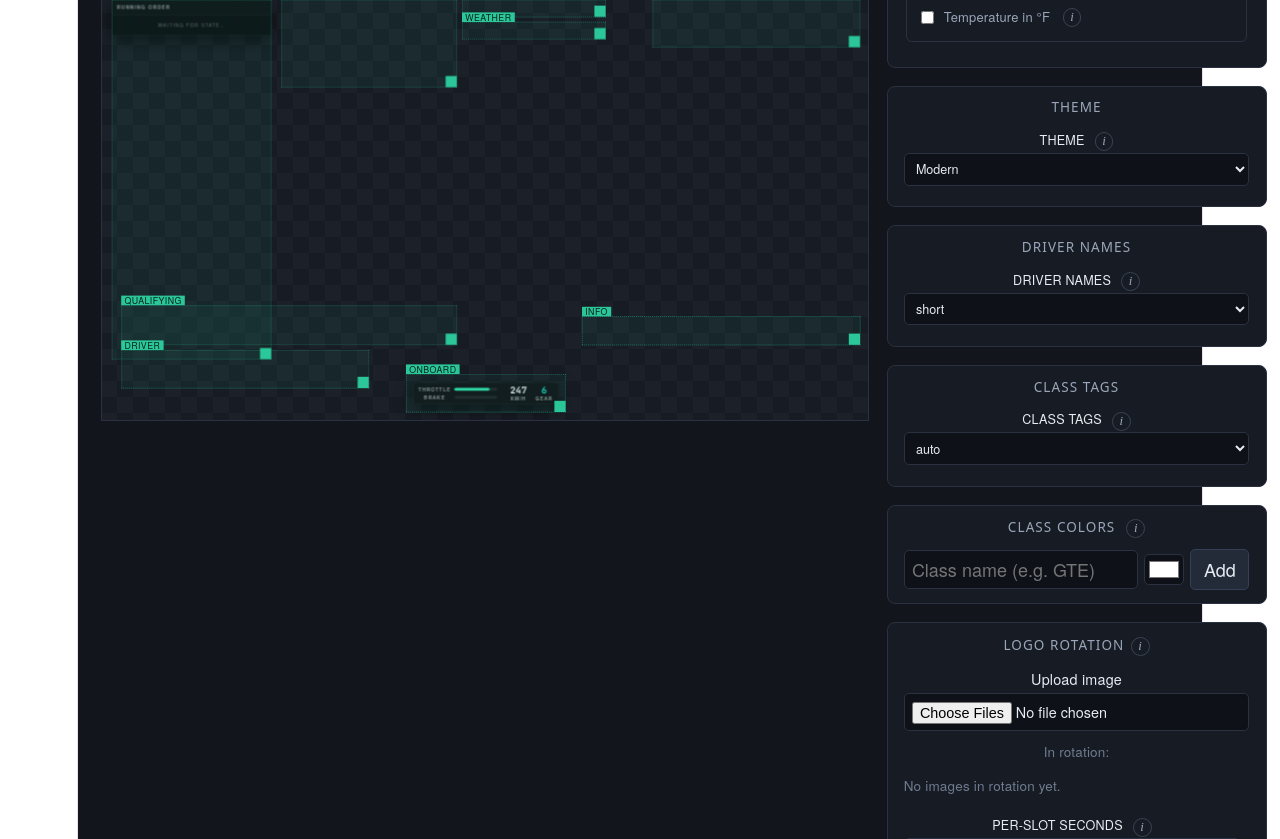
Test: config editor: class tags › explains the control in the UI
The width and height of the screenshot is (1280, 839).
(page scrolled)
What coordinates should you click on to do the following:
click the button with test id "help-class-tags"
I would click on:
 (1121, 421)
Its box is [1112, 412, 1131, 430].
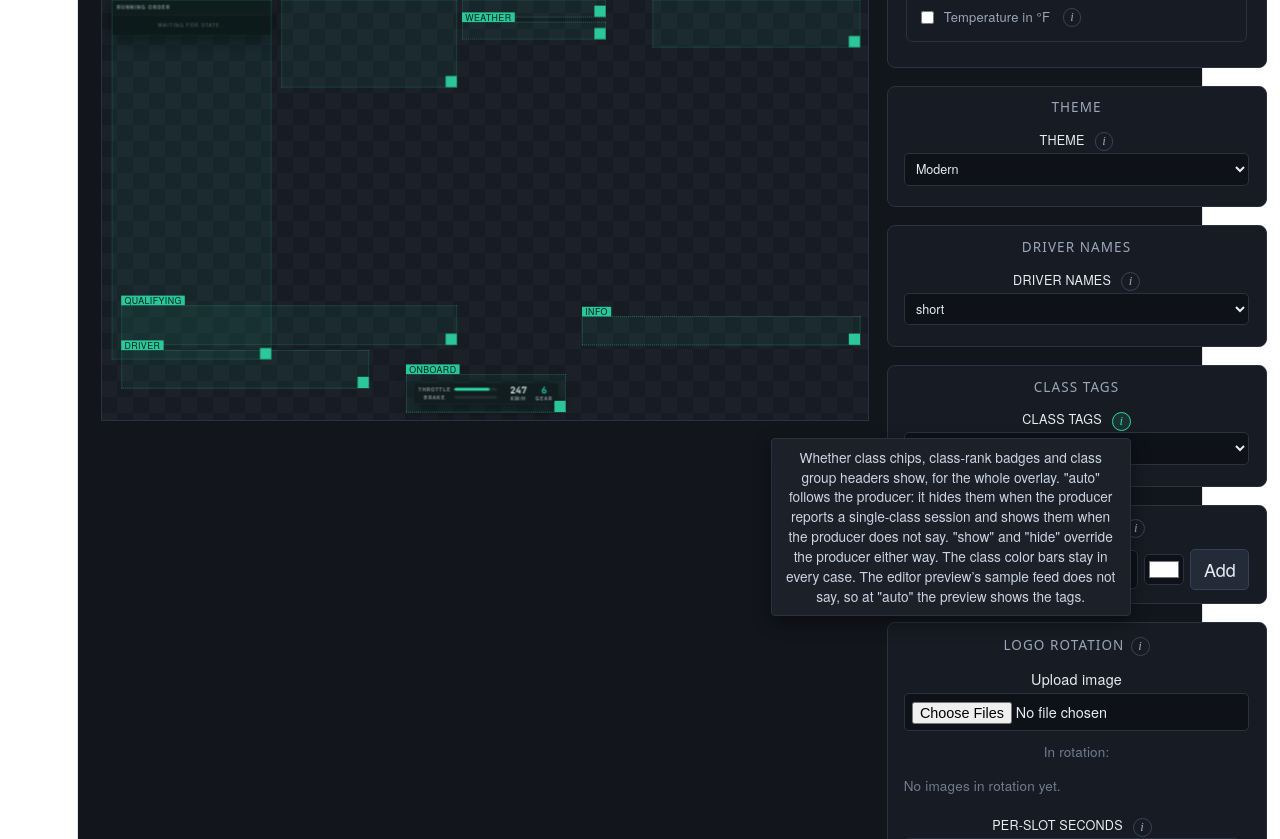
Expected: the tooltip with test id "help-class-tags-text" is shown, [771, 438, 1131, 616]
